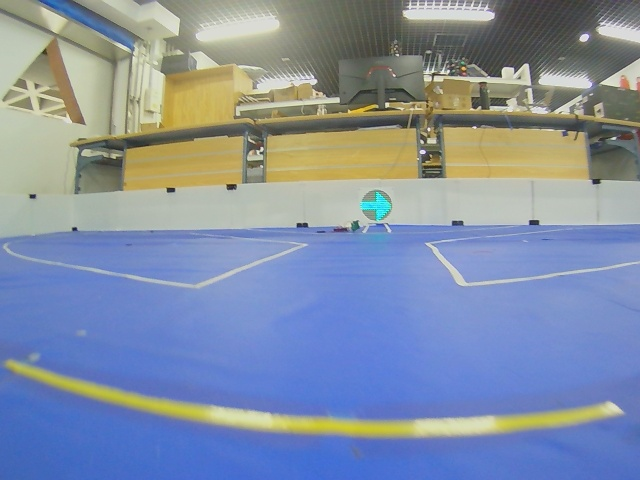right_green: (359, 188, 393, 221)
